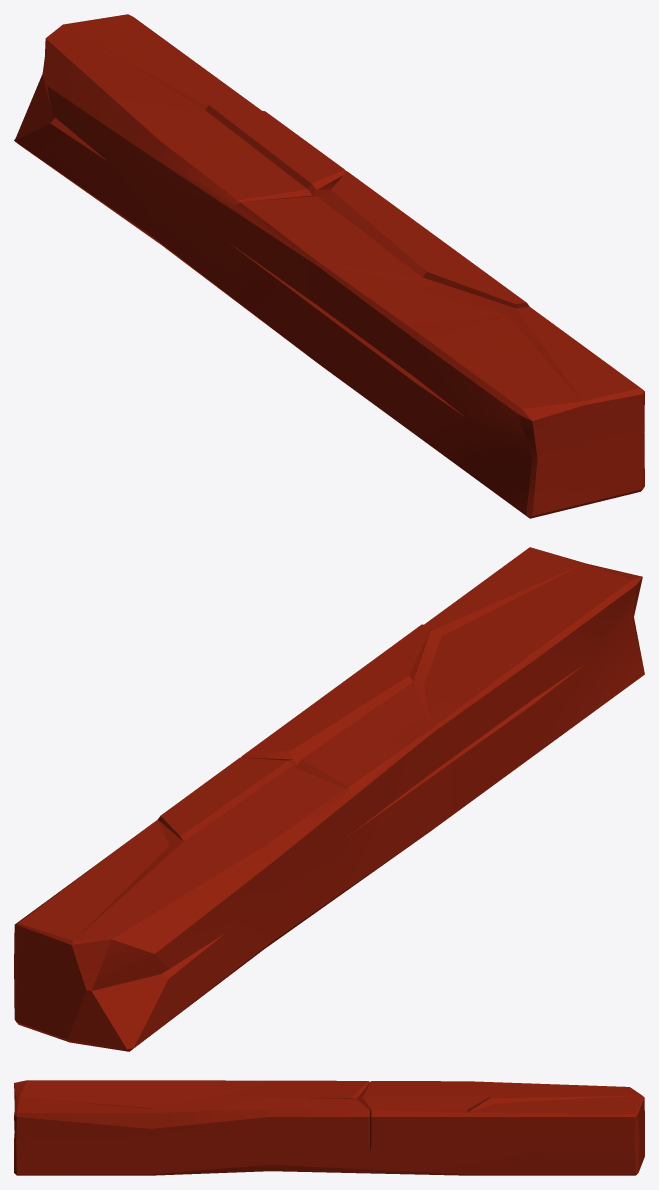
File: SM_Ramp_02.fbx
The picture shows the model from 3 angles, top to bottom: view 1: azimuth 30°, elevation 25°; view 2: azimuth 150°, elevation 25°; view 3: azimuth 270°, elevation 25°; orthographic projection. The views are drawn at different scales.
Visible parts, largest first — view 1: Box017; view 2: Box017; view 3: Box017.
Part boxes in pixels (box(x1,y1,x2,y2)): Box017: box(14, 14, 644, 518); Box017: box(14, 547, 644, 1051); Box017: box(14, 1080, 644, 1175).
Size of the model in its own units: 518 by 442 by 3778.
